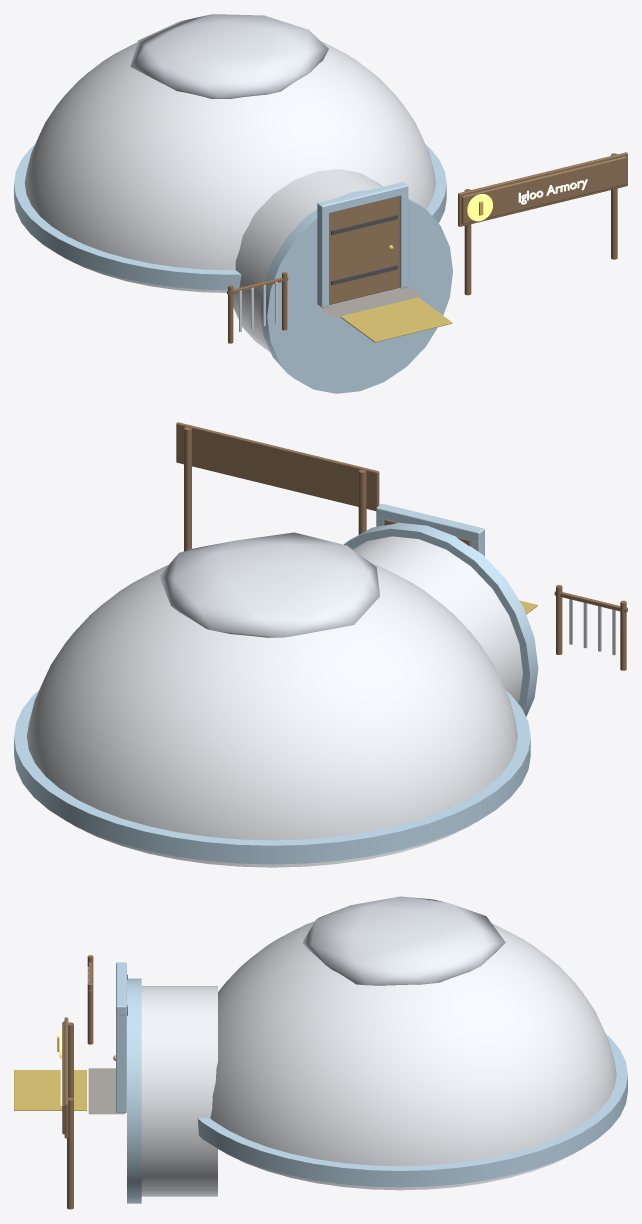
The model's file is igloo_armory.fbx.
3 views of the same model, one above another, from view 1: azimuth 30°, elevation 25°; view 2: azimuth 150°, elevation 25°; view 3: azimuth 270°, elevation 25° (orthographic). The views are drawn at different scales.
Parts seen in each view (by area): view 1: igloo_armory; view 2: igloo_armory; view 3: igloo_armory.
Part boxes in pixels (box(x1,y1,x2,y2)): igloo_armory: box(14, 14, 627, 393); igloo_armory: box(14, 422, 627, 867); igloo_armory: box(14, 896, 627, 1209).
Bounding box in the file's own units: 14.21 × 8.2 × 16.85.
